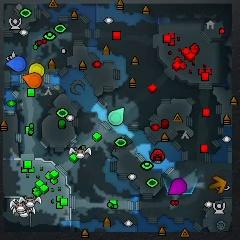p1: (6, 56, 27, 72)
p2: (108, 107, 124, 126)
p3: (168, 178, 187, 195)
p4: (29, 63, 45, 77)
p5: (21, 72, 43, 90)
x5: (209, 176, 227, 193)
